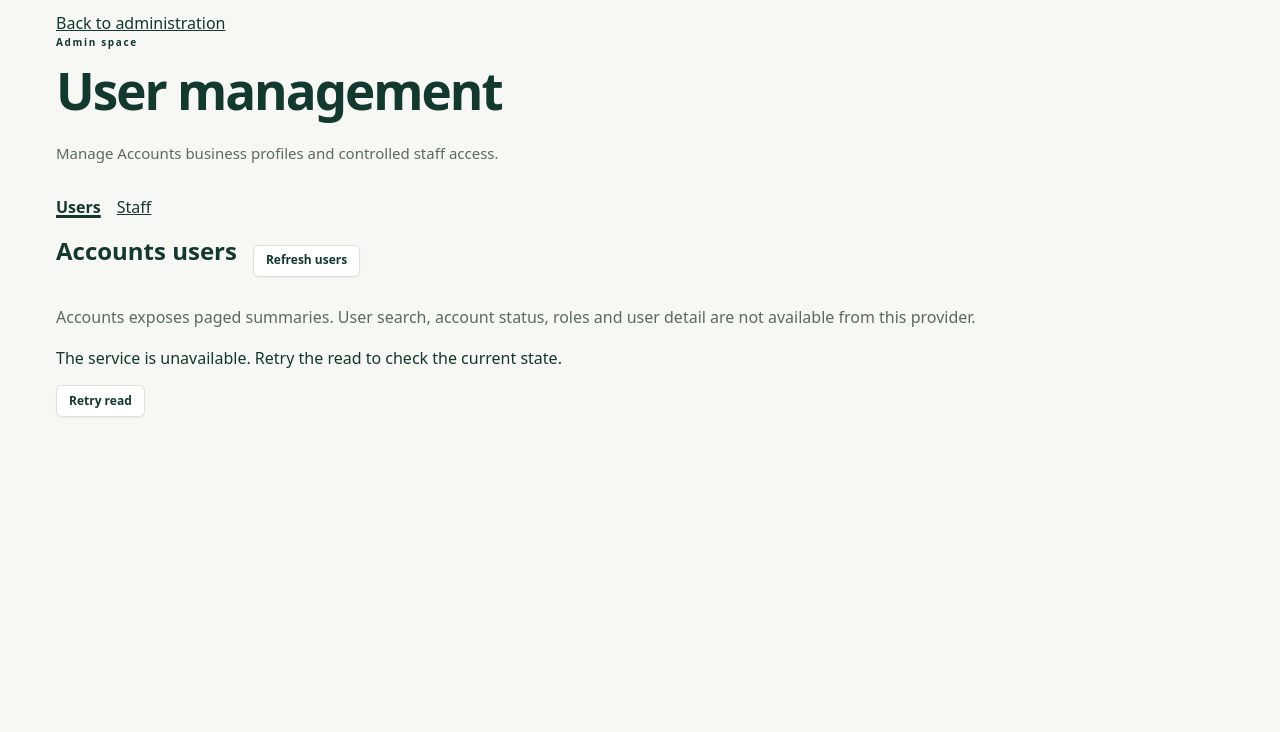
User and staff reads › recovers a user provider failure only through explicit retry
This screenshot has width=1280, height=732.
Expected: the message shows "service is unavailable", [56,347,562,369]
Step 1. Click the button "Retry read" → [100, 401], box [56,385,145,417]
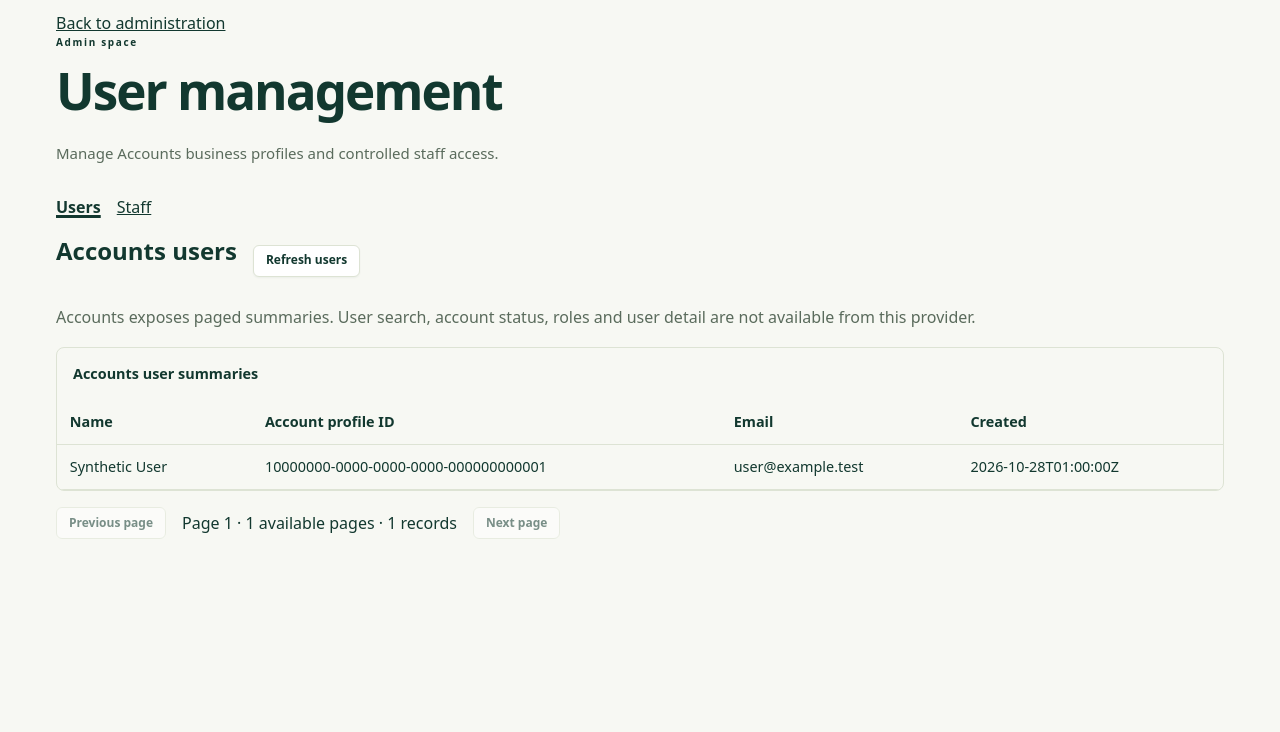
Expected: the text "Synthetic User" is shown, [57,444,252,490]
